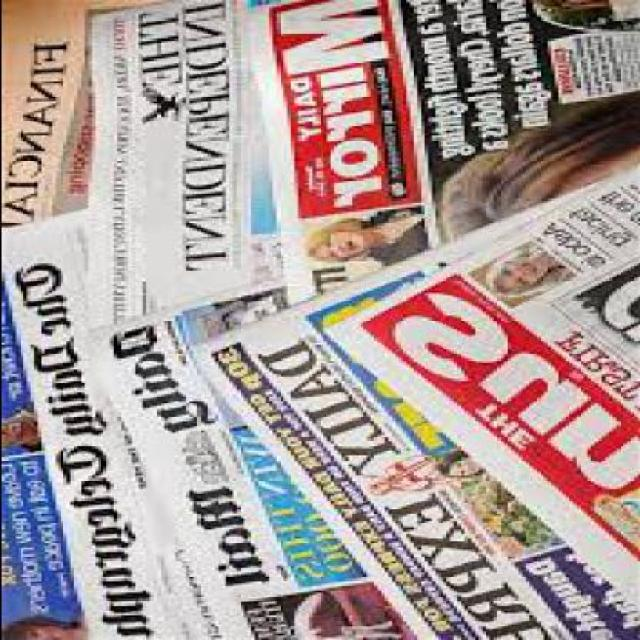PAPER: (185, 176, 637, 638), (318, 160, 636, 638), (76, 278, 412, 638), (245, 0, 633, 306), (87, 0, 274, 315), (1, 204, 104, 638), (2, 0, 165, 228)
